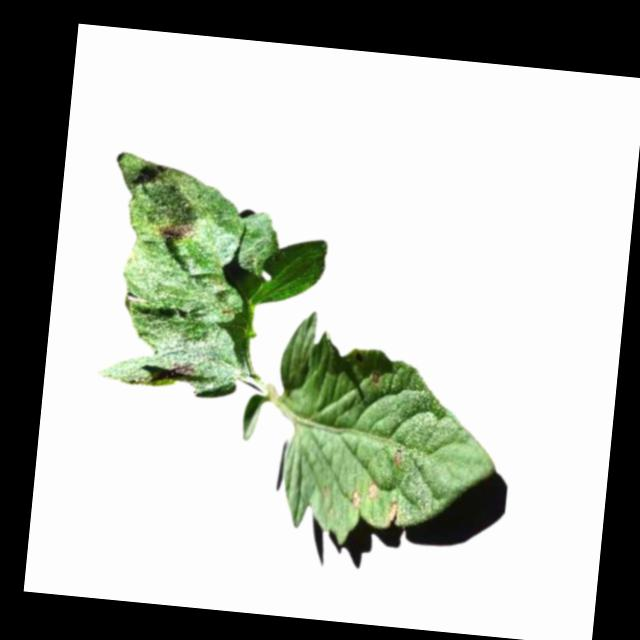Early_blight: (149, 215, 197, 242), (385, 497, 403, 524), (169, 358, 195, 375), (346, 487, 363, 510), (365, 480, 381, 500), (392, 447, 405, 465)
